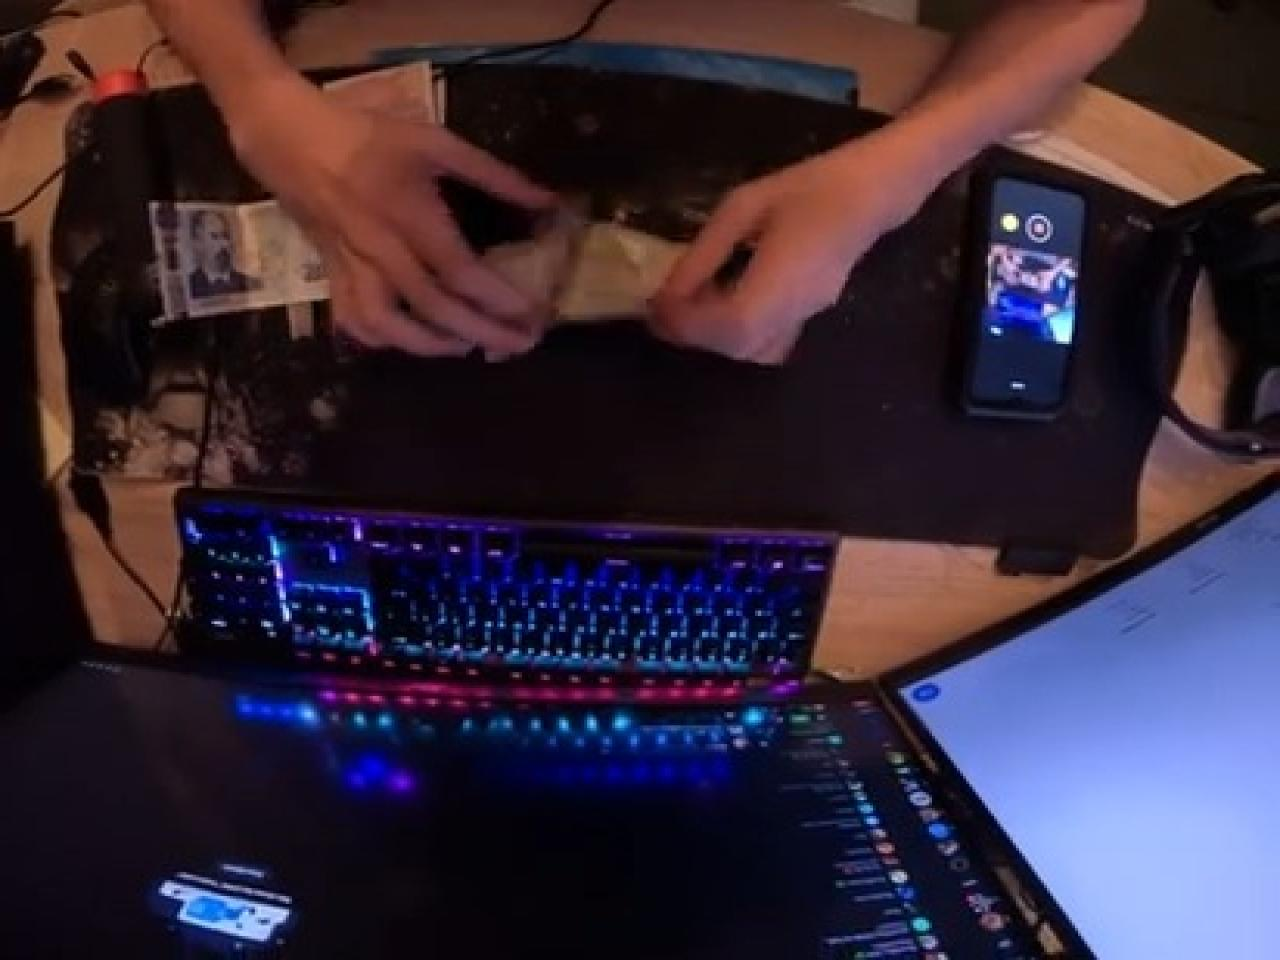50leva: (330, 170, 715, 349)
